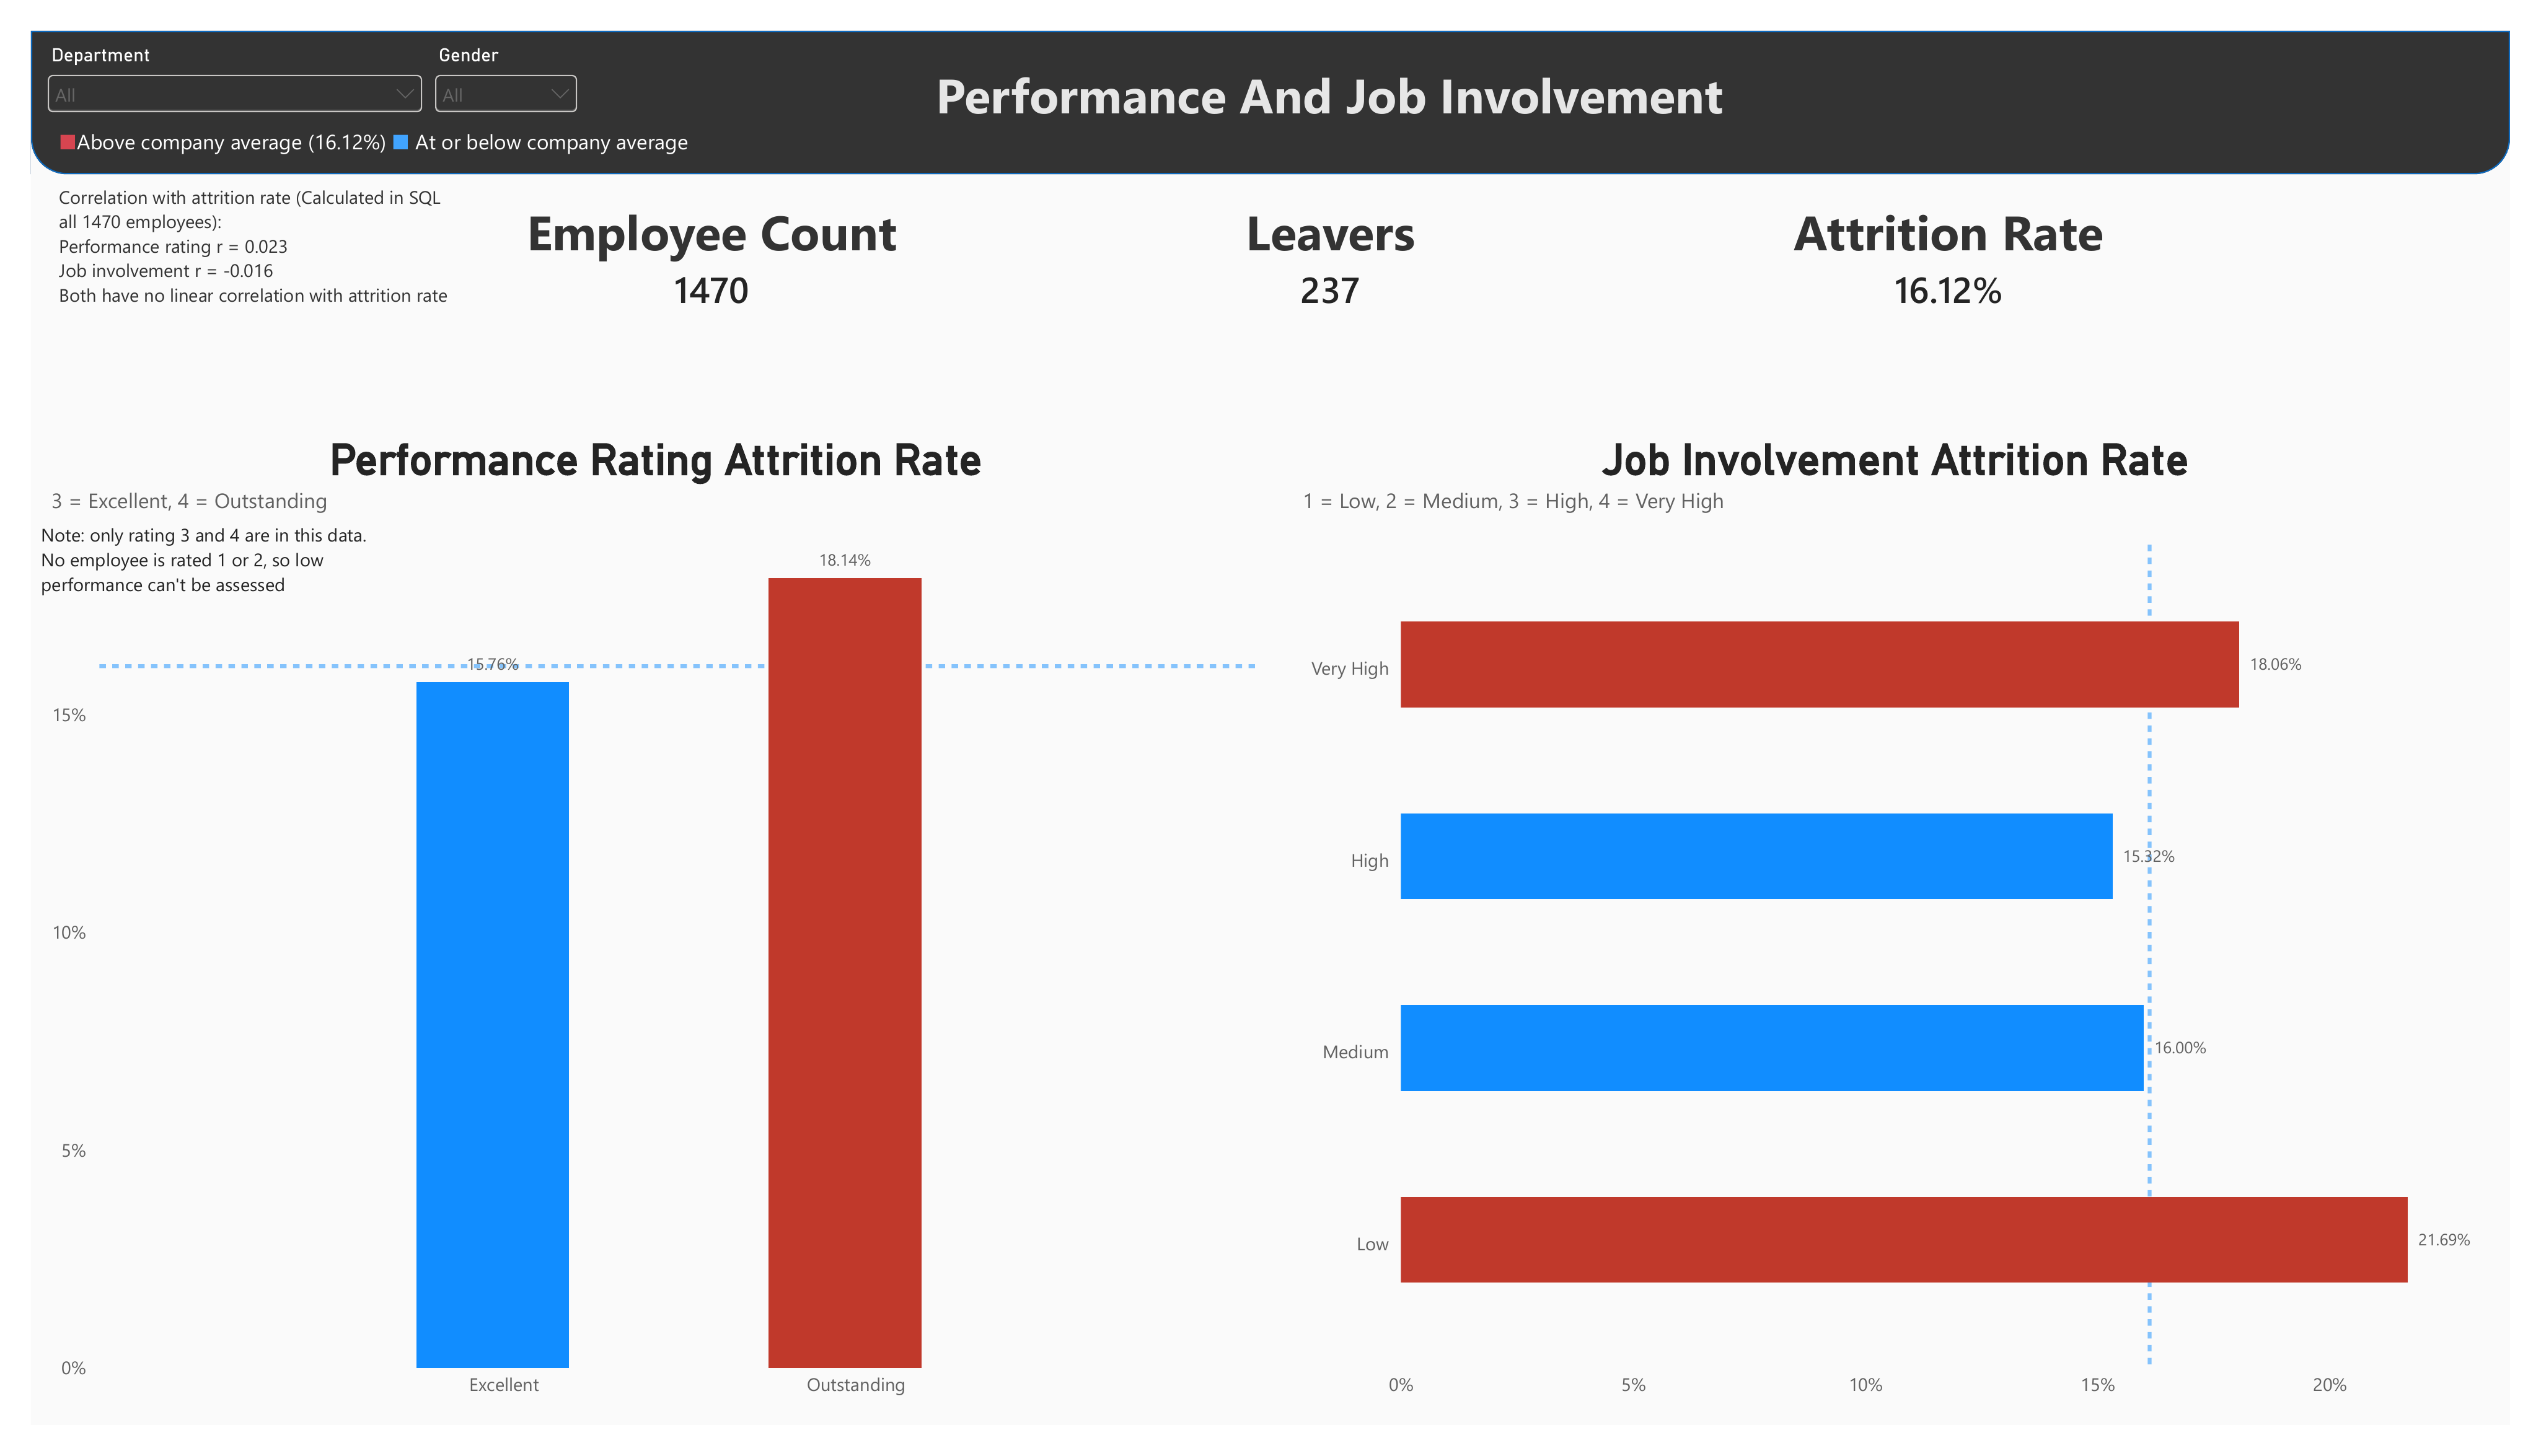

The dashboard page shown, as its layout file describes it:
{"tool":"powerbi","page":{"name":"Performance And Involvement","canvas":[1920,1080],"ordinal":3},"visuals":[{"type":"columnChart","title":"Performance Rating Attrition Rate","fields":{"Category":["manager_survey.Performance Scale"],"Y":["_Measures.Attrition Rate"]},"box":[0,299.4,968.8,780.4],"z":0},{"type":"barChart","title":"Job Involvement Attrition Rate","fields":{"Category":["manager_survey.JobInvolvement Scale"],"Y":["_Measures.Attrition Rate"]},"box":[968.8,299.4,951.2,780.4],"z":1000},{"type":"cardVisual","fields":{"Data":["_Measures.Employee Count"]},"box":[287.6,111.9,479,126.6],"z":2000},{"type":"cardVisual","fields":{"Data":["_Measures.Leavers"]},"box":[766.6,111.9,479,126.6],"z":3000},{"type":"cardVisual","fields":{"Data":["_Measures.Attrition Rate"]},"box":[1245.6,111.9,479,126.6],"z":4000},{"type":"shape","title":"fvdf","box":[0,0,1920,110.9],"z":5000},{"type":"textbox","box":[683.2,23.6,645.9,102.1],"z":6000},{"type":"slicer","fields":{"Values":["general_data.Department"]},"box":[7.9,10.8,300.4,63.8],"z":7000},{"type":"slicer","fields":{"Values":["general_data.Gender"]},"box":[308.2,10.8,119.8,63.8],"z":8000},{"type":"textbox","box":[21.6,74.6,505.5,39.3],"z":9000},{"type":"textbox","box":[7.9,380.9,260.1,60.9],"z":9001},{"type":"textbox","box":[21.6,118.8,309.2,113.9],"z":9002}]}

Visuals, with their boxes on the page's 1920x1080 design canvas (x1, y1, x2, y2). These are canvas units, not pixel positions in the 2541x1456 screenshot, which may show the page scaled, cropped or inside an application window:
"Performance Rating Attrition Rate" columnChart: 0:299:969:1080
"Job Involvement Attrition Rate" barChart: 969:299:1920:1080
cardVisual - _Measures.Employee Count: 288:112:767:238
cardVisual - _Measures.Leavers: 767:112:1246:238
cardVisual - _Measures.Attrition Rate: 1246:112:1725:238
"fvdf" shape: 0:0:1920:111
textbox: 683:24:1329:126
slicer - general_data.Department: 8:11:308:75
slicer - general_data.Gender: 308:11:428:75
textbox: 22:75:527:114
textbox: 8:381:268:442
textbox: 22:119:331:233
